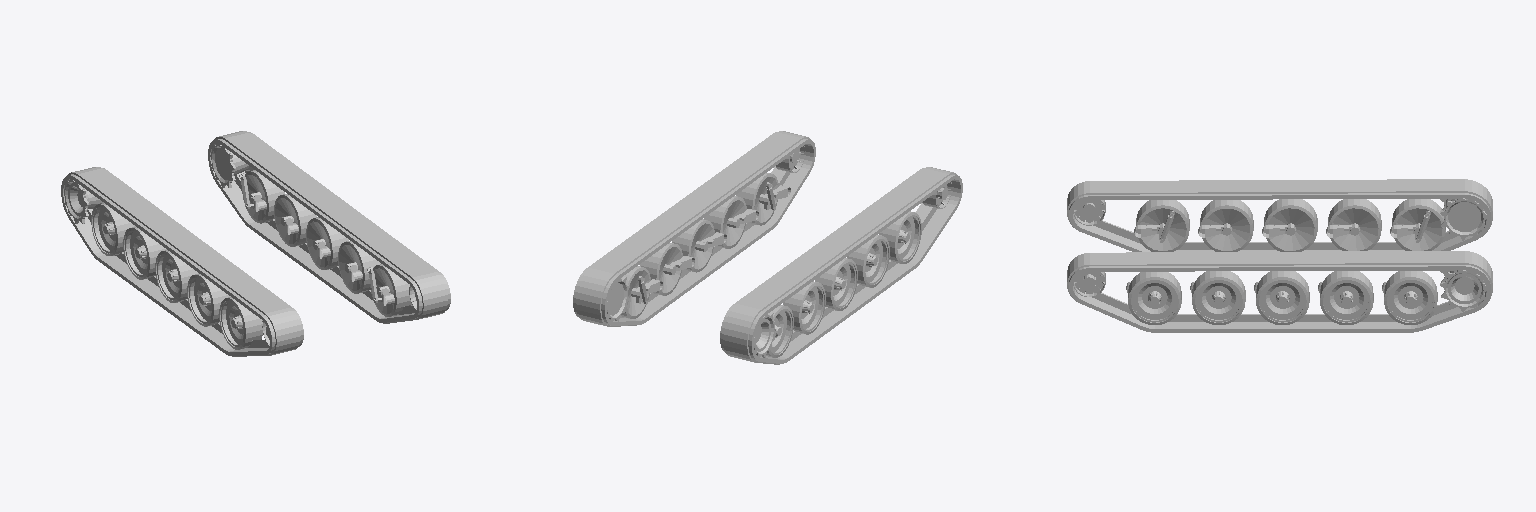
File: AMBT_TRACK.obj
The picture shows the model from 3 angles: view 1: azimuth 30°, elevation 25°; view 2: azimuth 150°, elevation 25°; view 3: azimuth 270°, elevation 25°; orthographic projection.
Visible parts, largest first — view 1: vehicle#chassis_0; view 2: vehicle#chassis_0; view 3: vehicle#chassis_0.
Part boxes in pixels (left/top/right/bottom): vehicle#chassis_0: left=61, top=131, right=450, bottom=356; vehicle#chassis_0: left=573, top=131, right=962, bottom=364; vehicle#chassis_0: left=1067, top=179, right=1492, bottom=332.
Bounding box in the file's own units: 3.08 × 1.15 × 6.36.